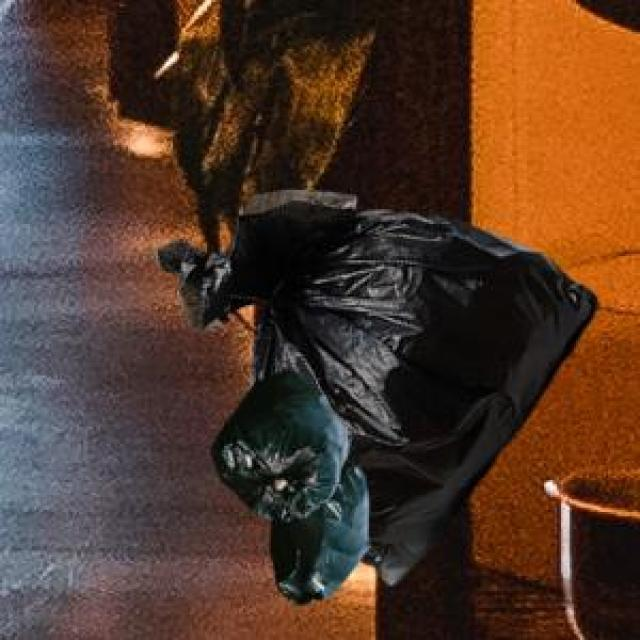Vinyl: (161, 192, 592, 602)
